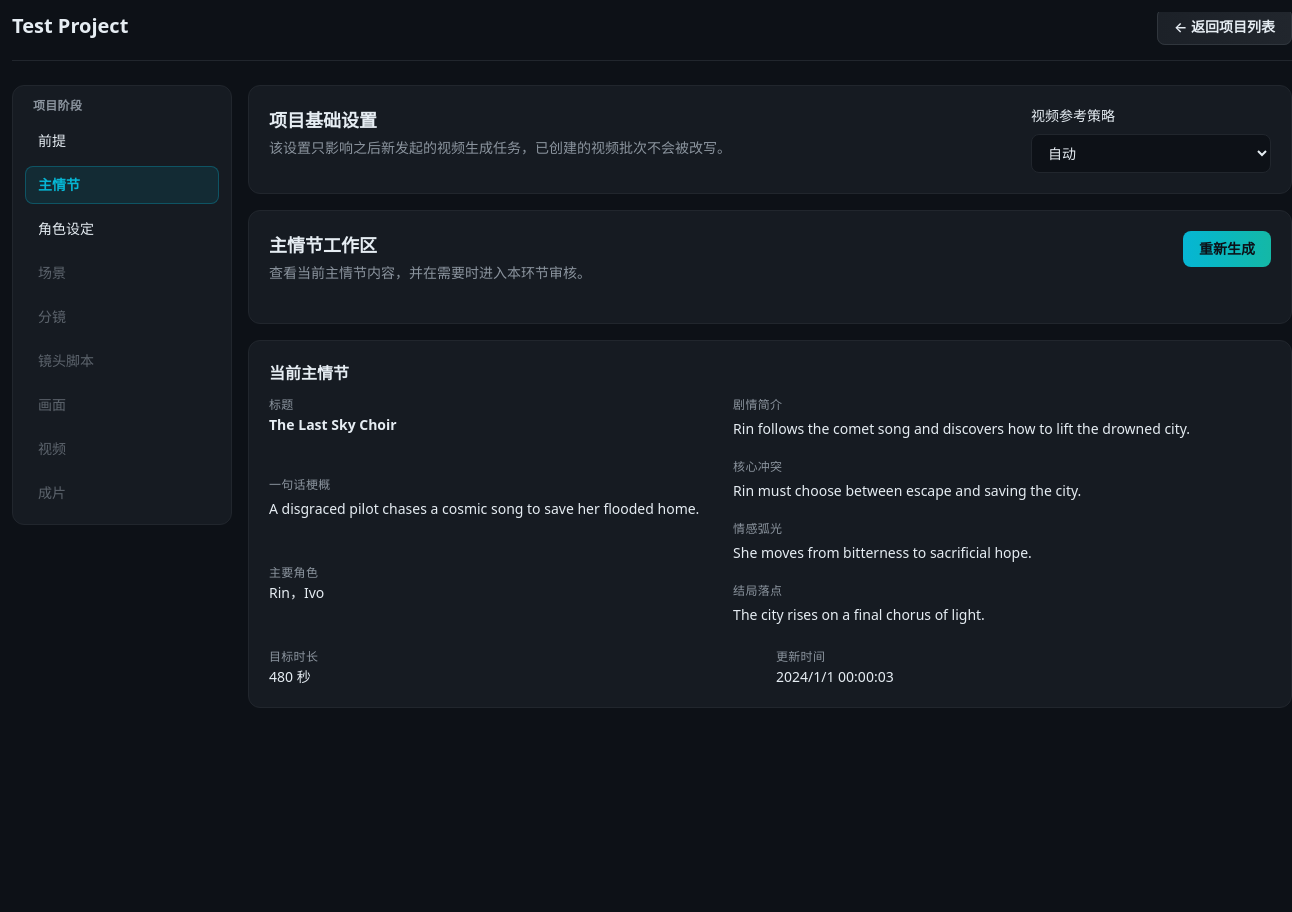
Scenario: Project Detail Page › shows the character phase after master plot approval and keeps storyboard disabled until approvals complete
The width and height of the screenshot is (1292, 912).
Expected: the button "场景" is disabled, [25, 254, 219, 292]
Expected: the button "分镜" is disabled, [25, 298, 219, 336]
Click the button "角色设定" at (122, 229), box [25, 210, 219, 248]
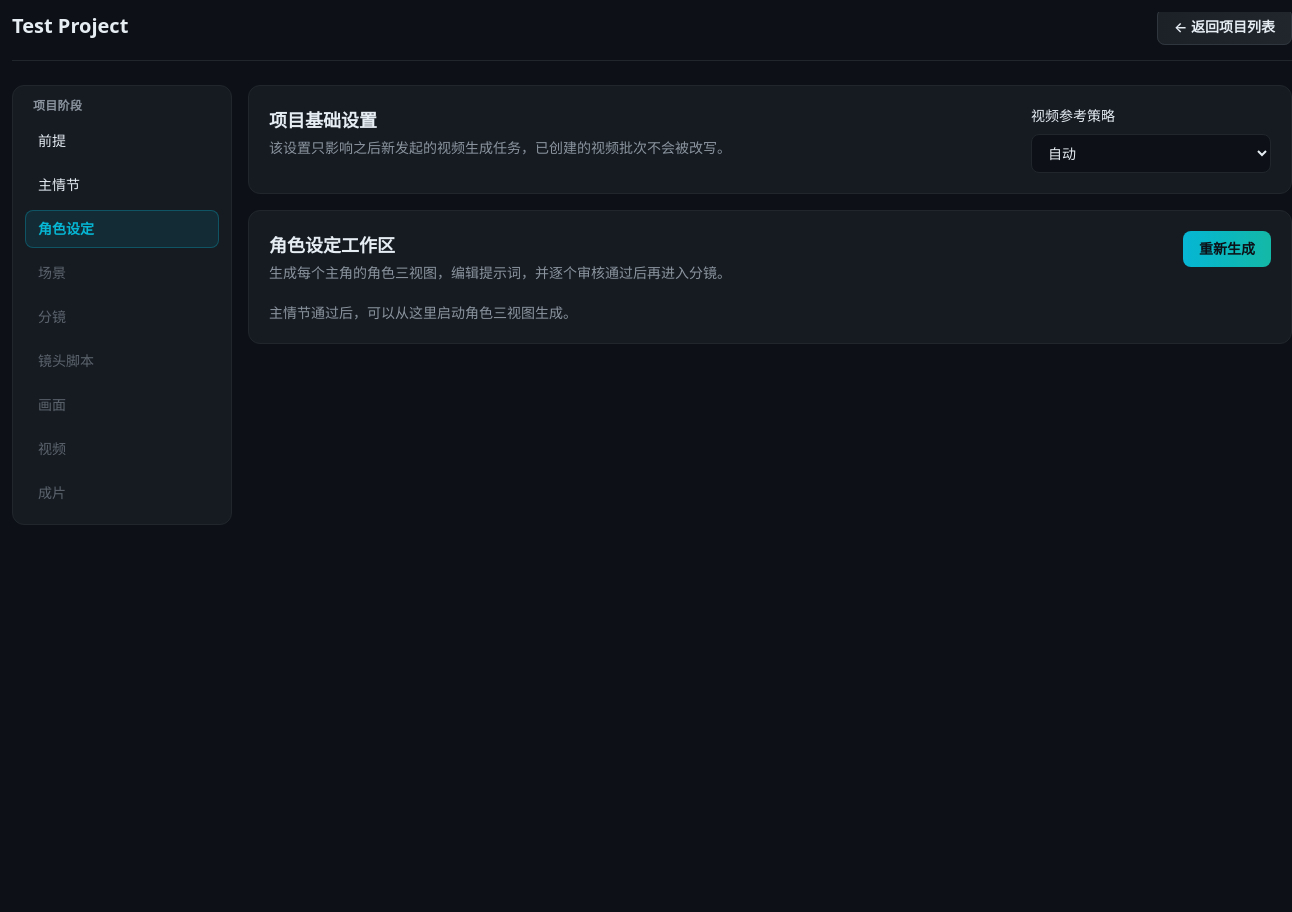
Expected: the button "重新生成" is shown, [1183, 231, 1271, 267]
Expected: the heading "角色设定工作区" is shown, [269, 233, 395, 257]
